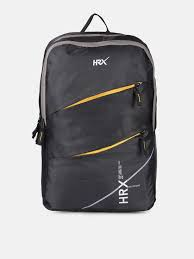backpack: (31, 12, 157, 212)
